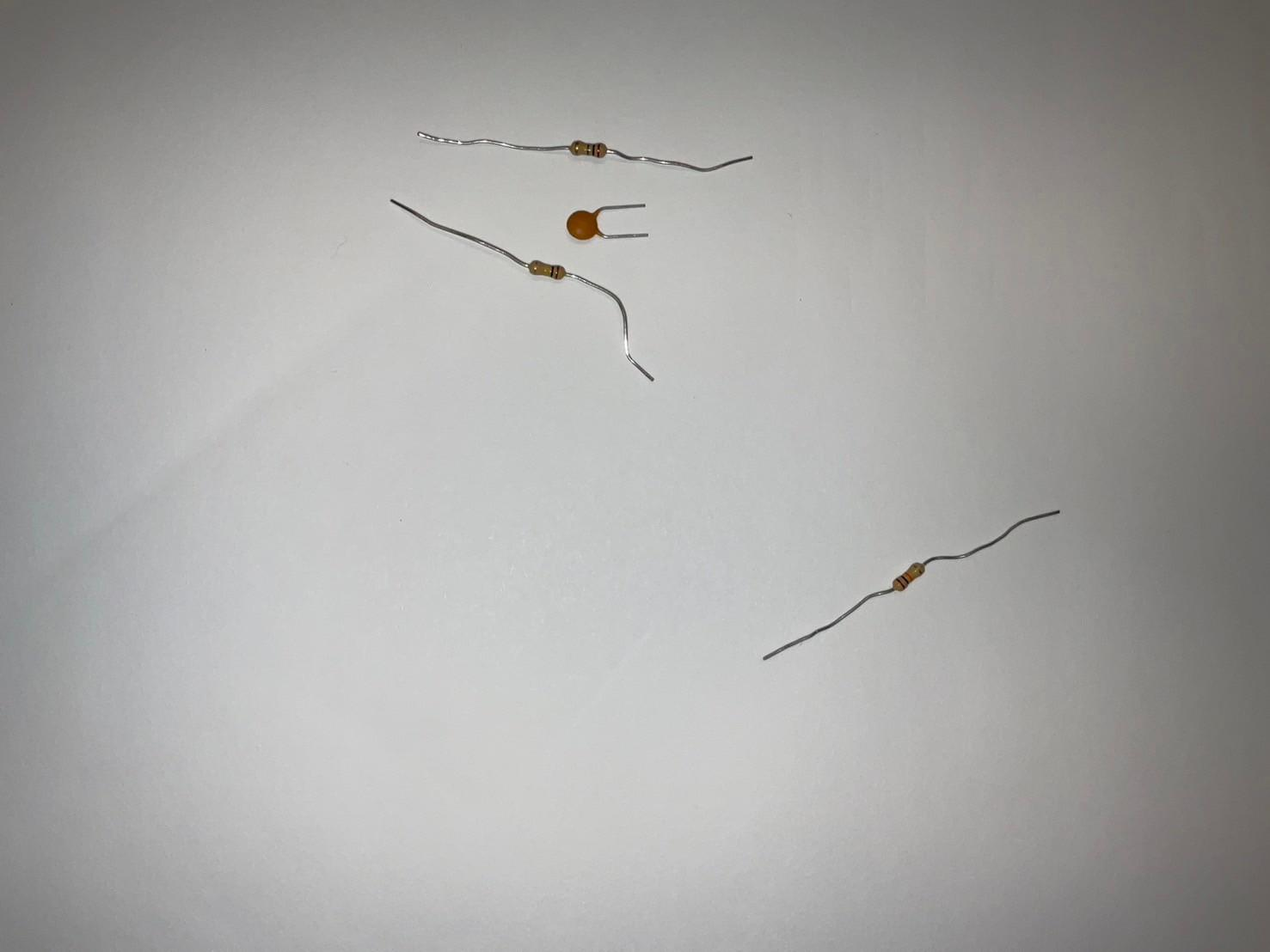resistor: (891, 562, 927, 592), (528, 258, 566, 282), (568, 139, 608, 159)
